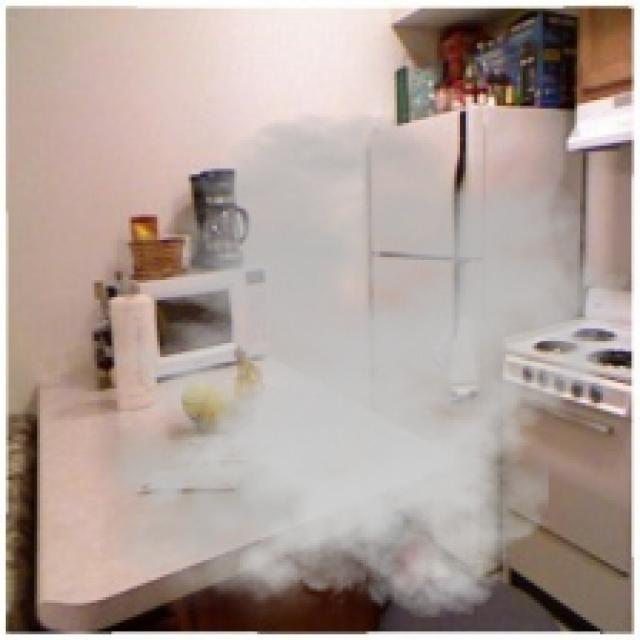Smoke: (75, 111, 634, 634)
